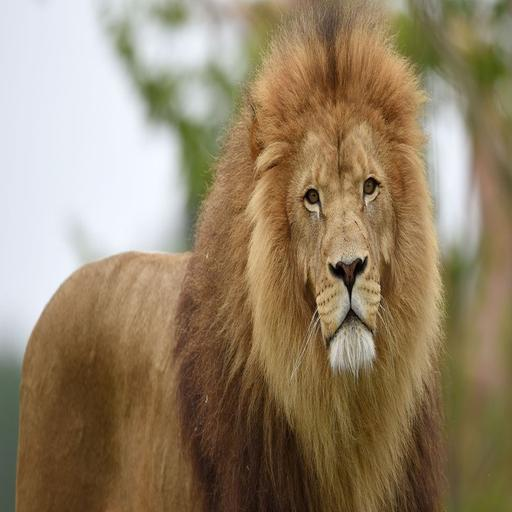Lion: (0, 0, 466, 512)
